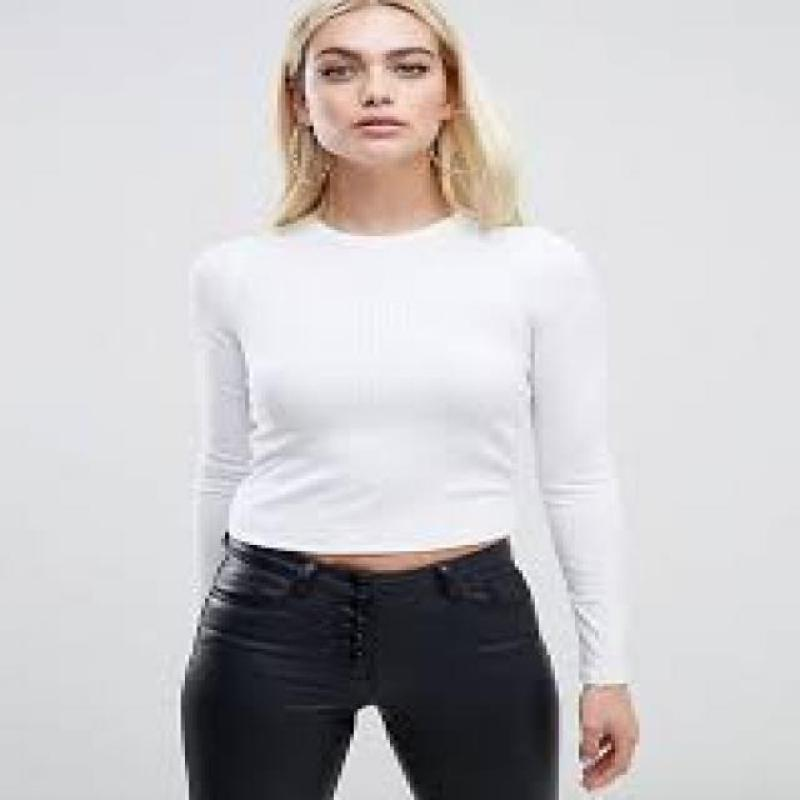long sleeve shirt: (186, 207, 632, 688)
trousers: (180, 533, 564, 800)
